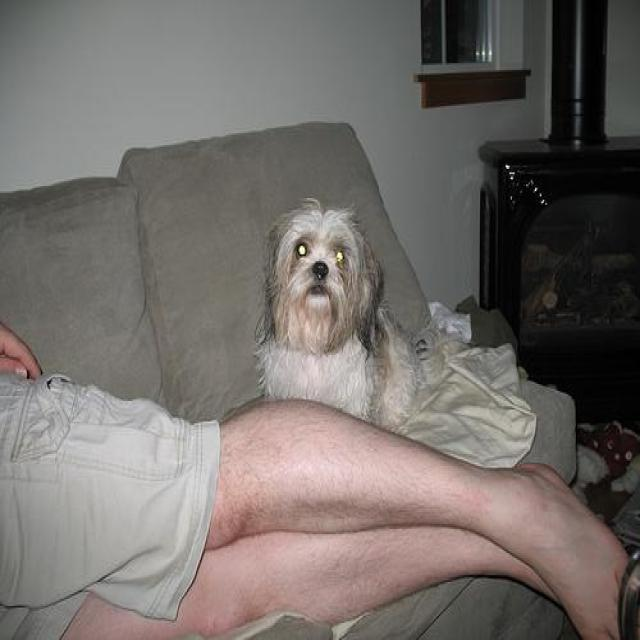shih_tzu: (257, 198, 425, 432)
